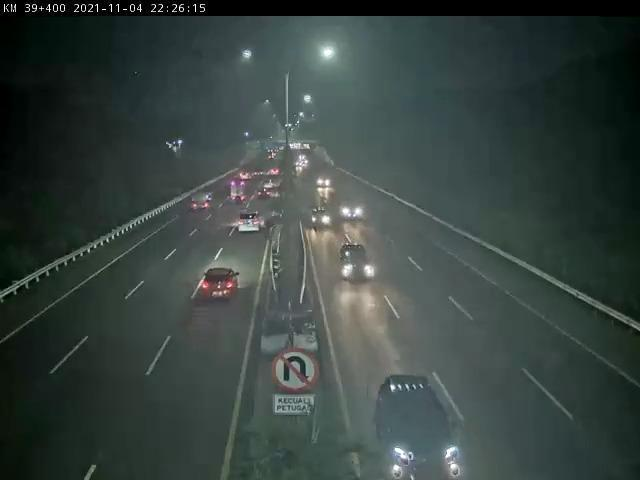car: (369, 369, 471, 480), (190, 264, 249, 303), (336, 243, 378, 288), (240, 216, 271, 239), (307, 213, 339, 235), (339, 202, 365, 226)
